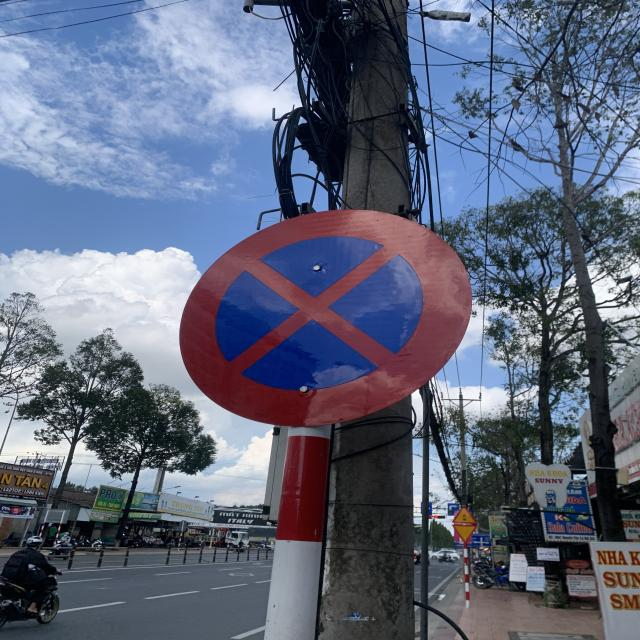Cam_Dung_Va_Dau_Xe: (180, 210, 476, 430)
